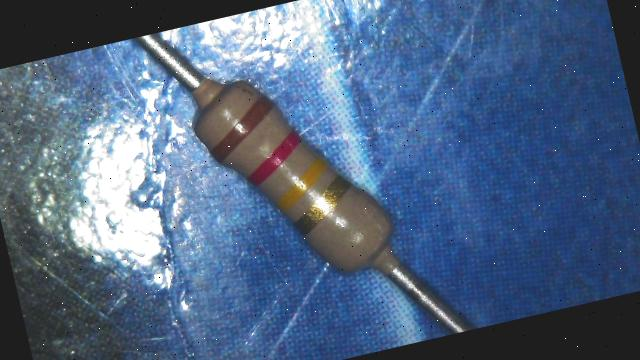brown: (204, 96, 280, 148)
gold: (294, 184, 362, 226)
red: (239, 134, 317, 176)
resistor: (164, 45, 429, 312)
yellow: (282, 162, 336, 197)
